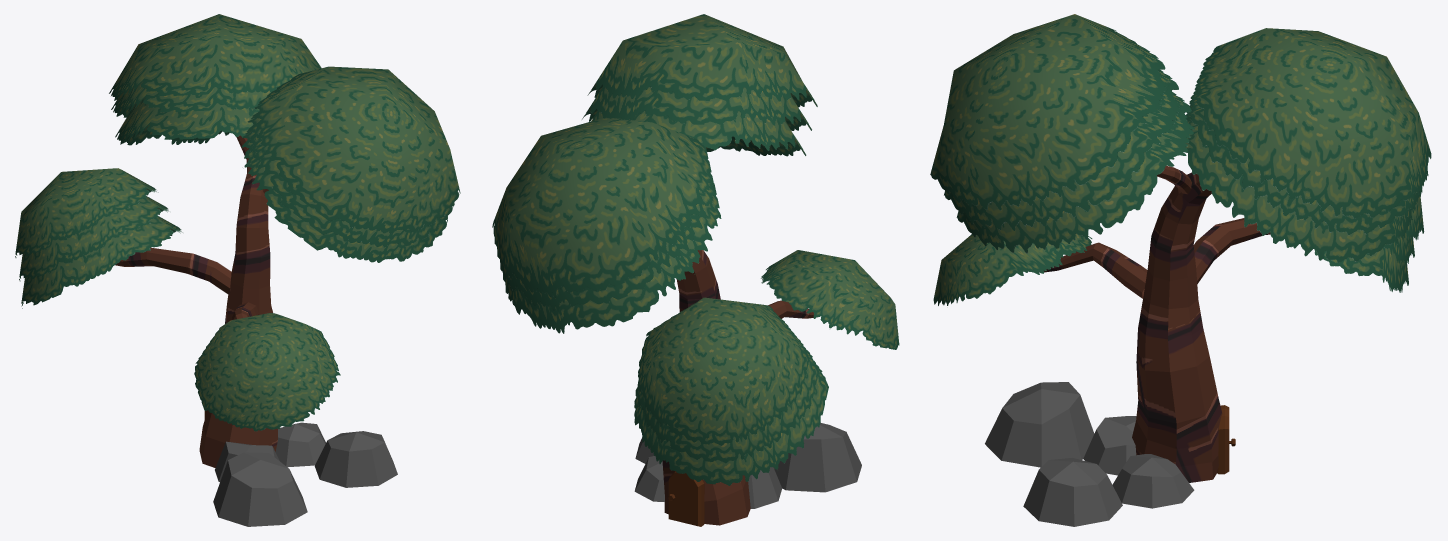
The model's file is arvoreshrine.fbx.
3 views of the same model, side by side, from view 1: azimuth 30°, elevation 25°; view 2: azimuth 150°, elevation 25°; view 3: azimuth 270°, elevation 25° (orthographic). The views are drawn at different scales.
Parts seen in each view (by area): view 1: Circle.005; view 2: Circle.005; view 3: Circle.005.
Boxes of the visible parts, x1,y1,x2,y2 form: Circle.005: [15, 14, 460, 526]; Circle.005: [492, 14, 899, 526]; Circle.005: [930, 14, 1431, 526].
Bounding box in the file's own units: 1753 × 2080 × 2070.
